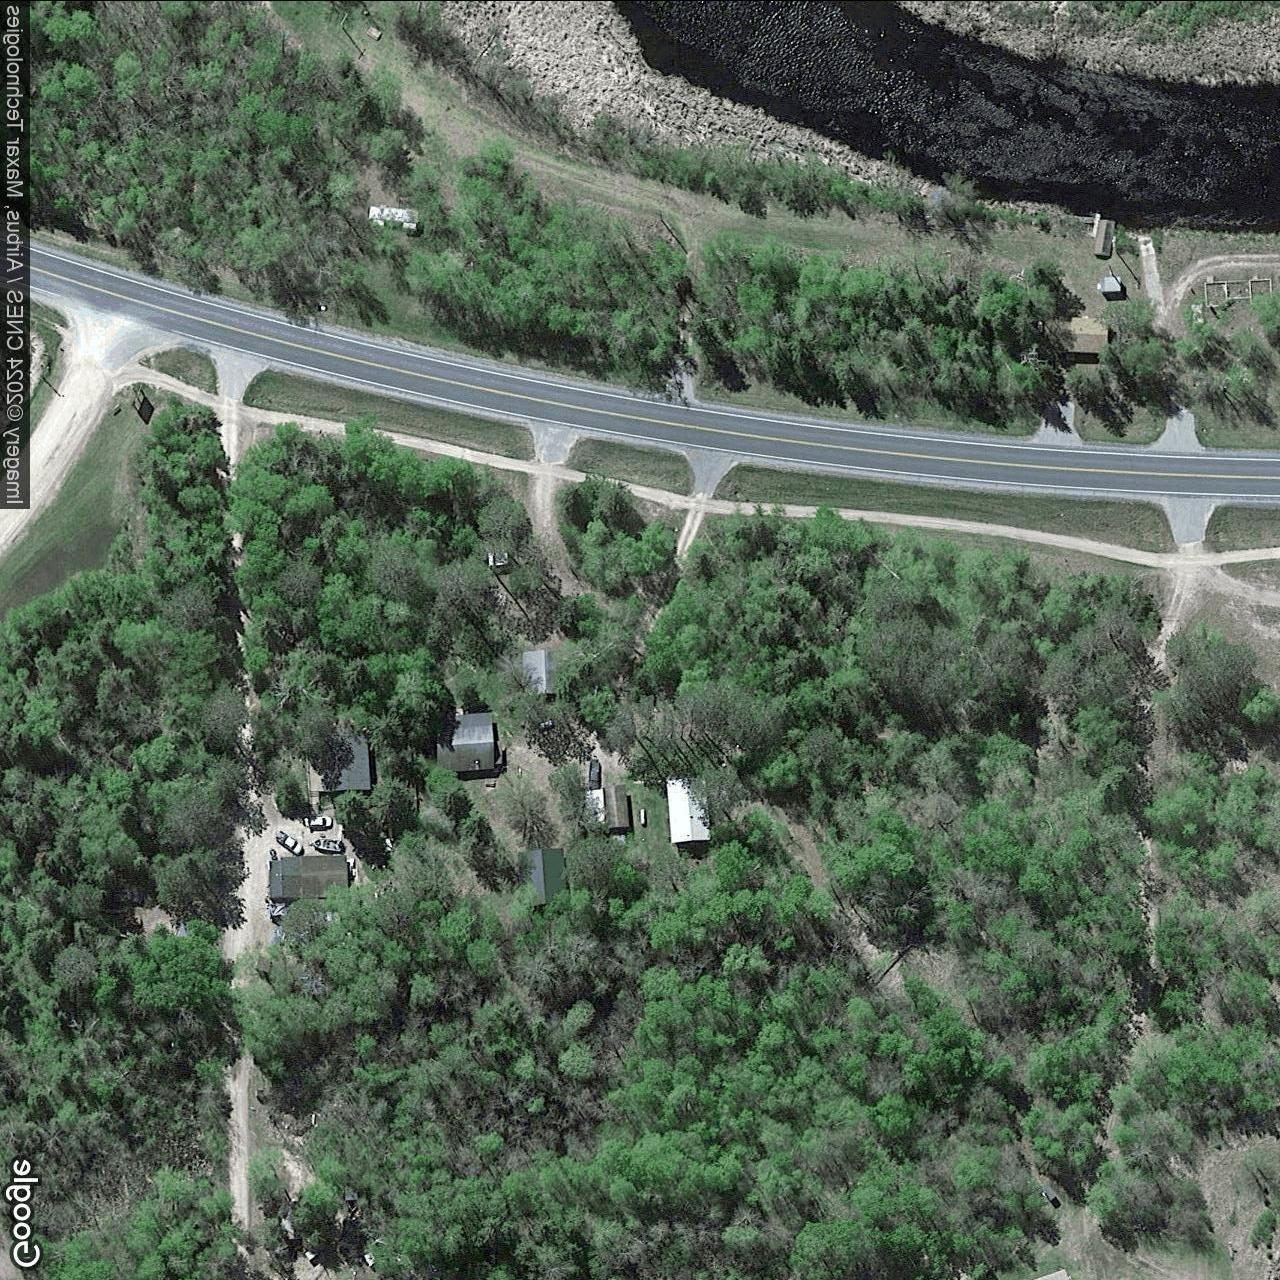Garage: (435, 713, 496, 771), (268, 853, 348, 898), (517, 846, 568, 907), (666, 776, 710, 843), (1094, 218, 1116, 257), (1098, 275, 1122, 292)
House: (305, 719, 372, 791), (1043, 315, 1108, 354), (584, 783, 629, 828), (523, 648, 559, 694), (1027, 1266, 1073, 1280)
Propane: (639, 806, 648, 828)
Trailer: (369, 205, 420, 229)
